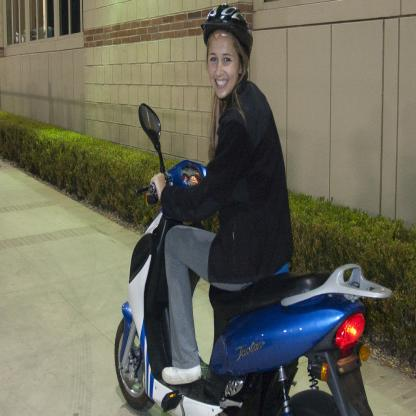Helmet: (202, 3, 253, 101)
